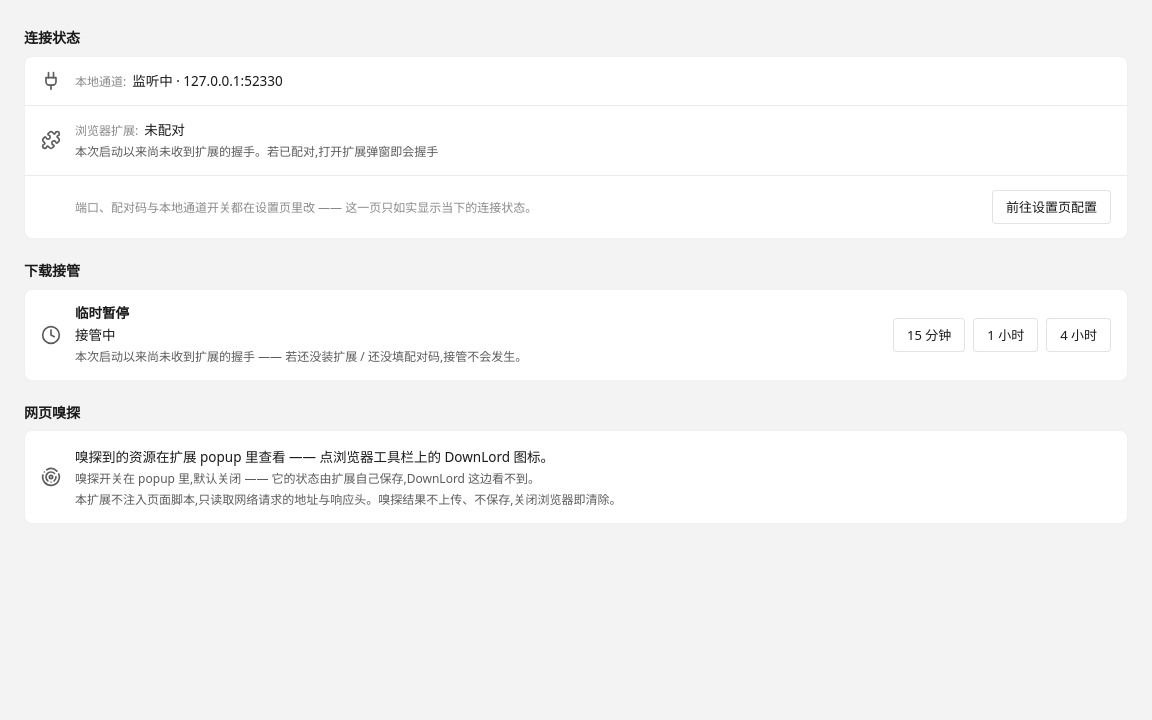
Test: ② 点「1 小时」→ 上报 {minutes:60};状态改显「已暂停」;三档换成「恢复接管」
Click the button "1 小时": {"x": 1006, "y": 335} [973,318,1038,352]
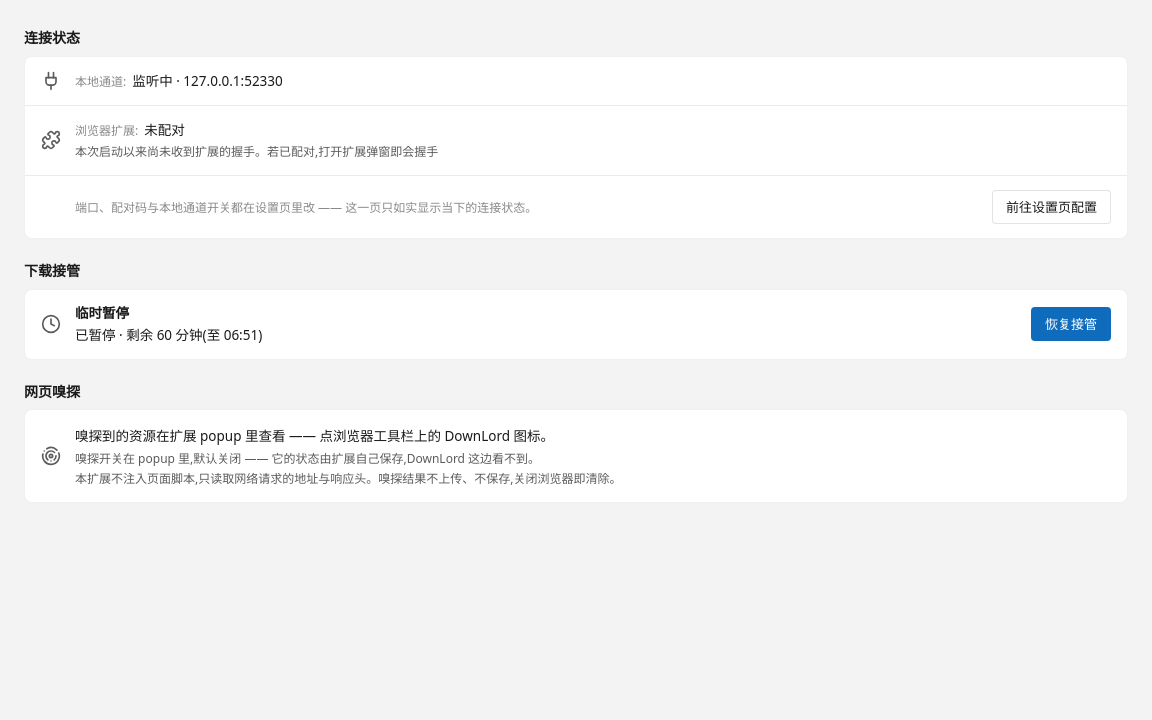
Expected: the button "恢复接管" is shown, [1031,307,1111,341]
Expected: the button "15 分钟" is gone
